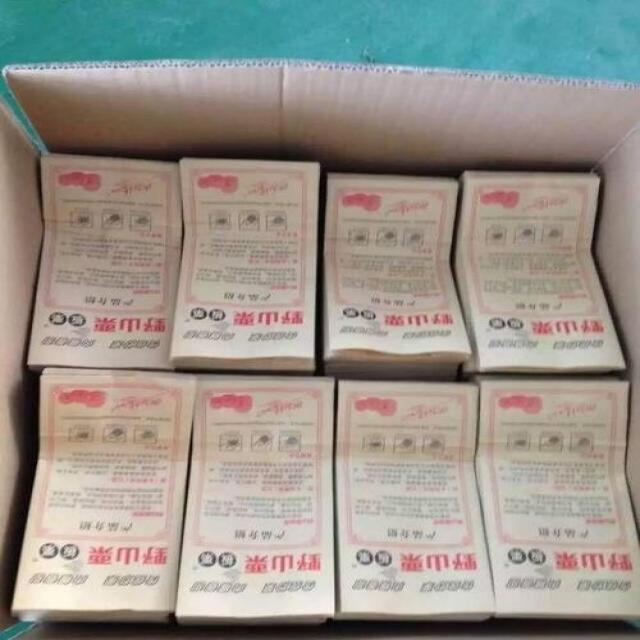box: (1, 59, 639, 639)
